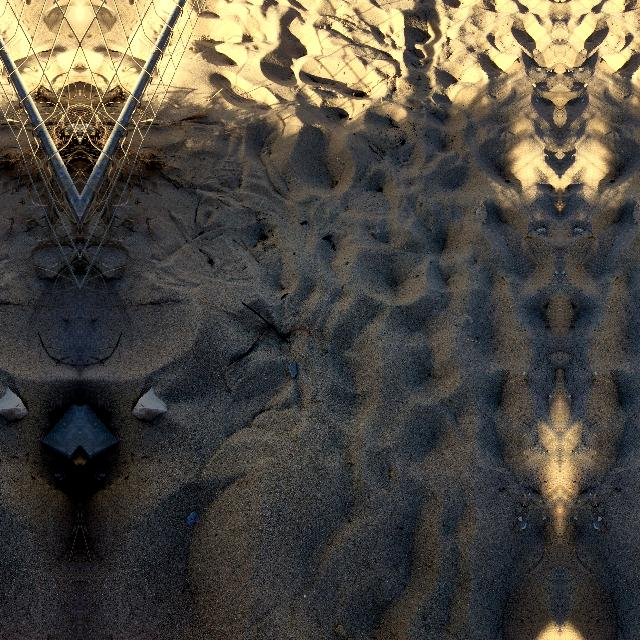Plastic: (223, 300, 290, 372)
